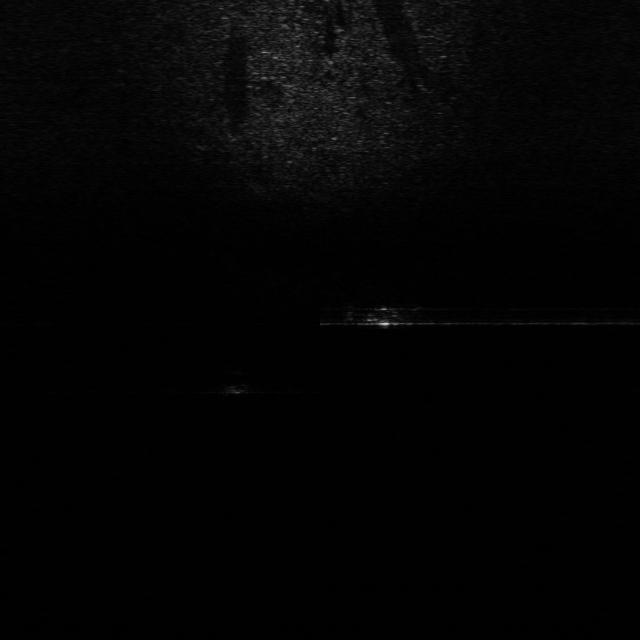ball: (218, 362, 256, 400)
human body: (317, 299, 418, 331)
